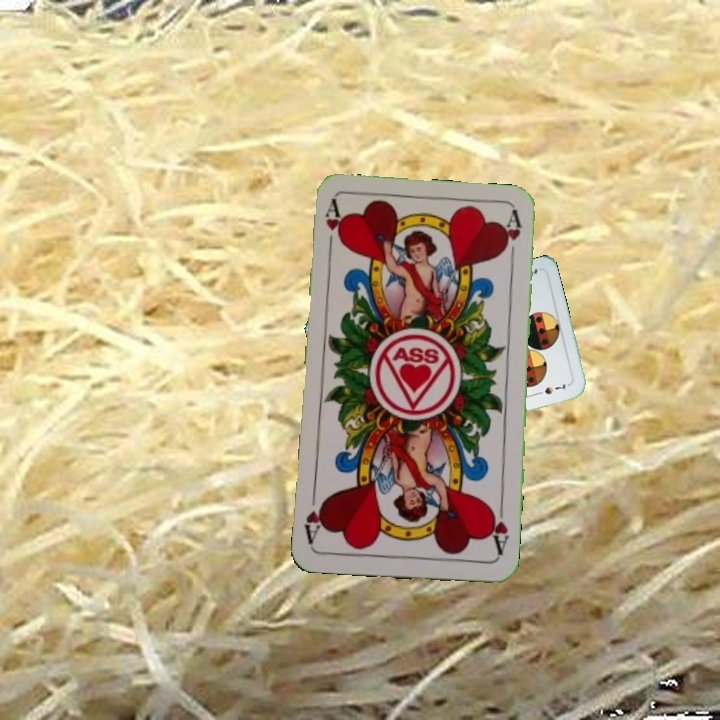HA: (320, 197, 347, 256), (485, 499, 511, 558)
